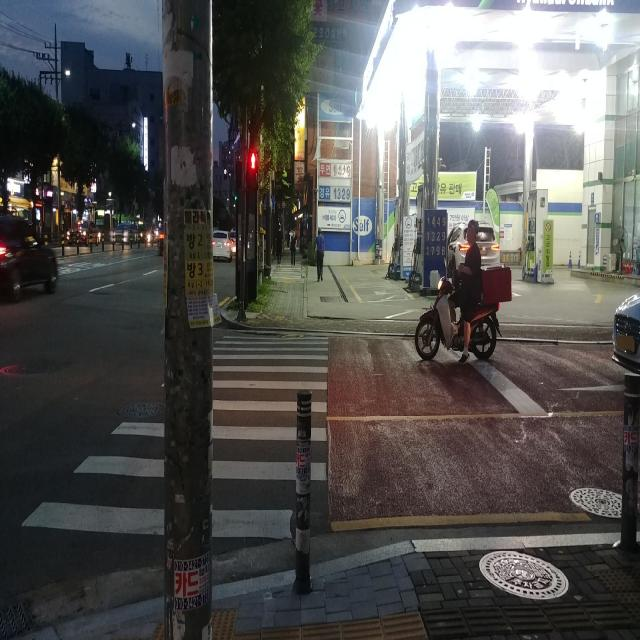횡단보도: (22, 336, 328, 538)
